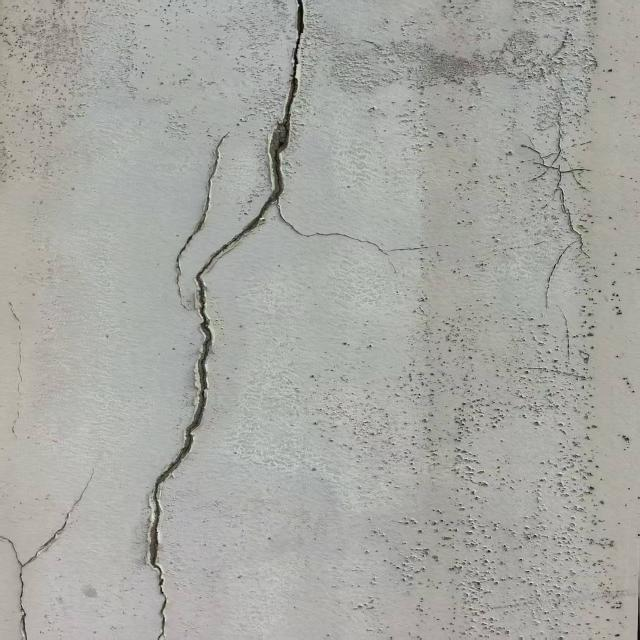crack: (136, 3, 414, 636), (1, 458, 109, 637), (519, 97, 598, 310), (162, 125, 245, 313)
